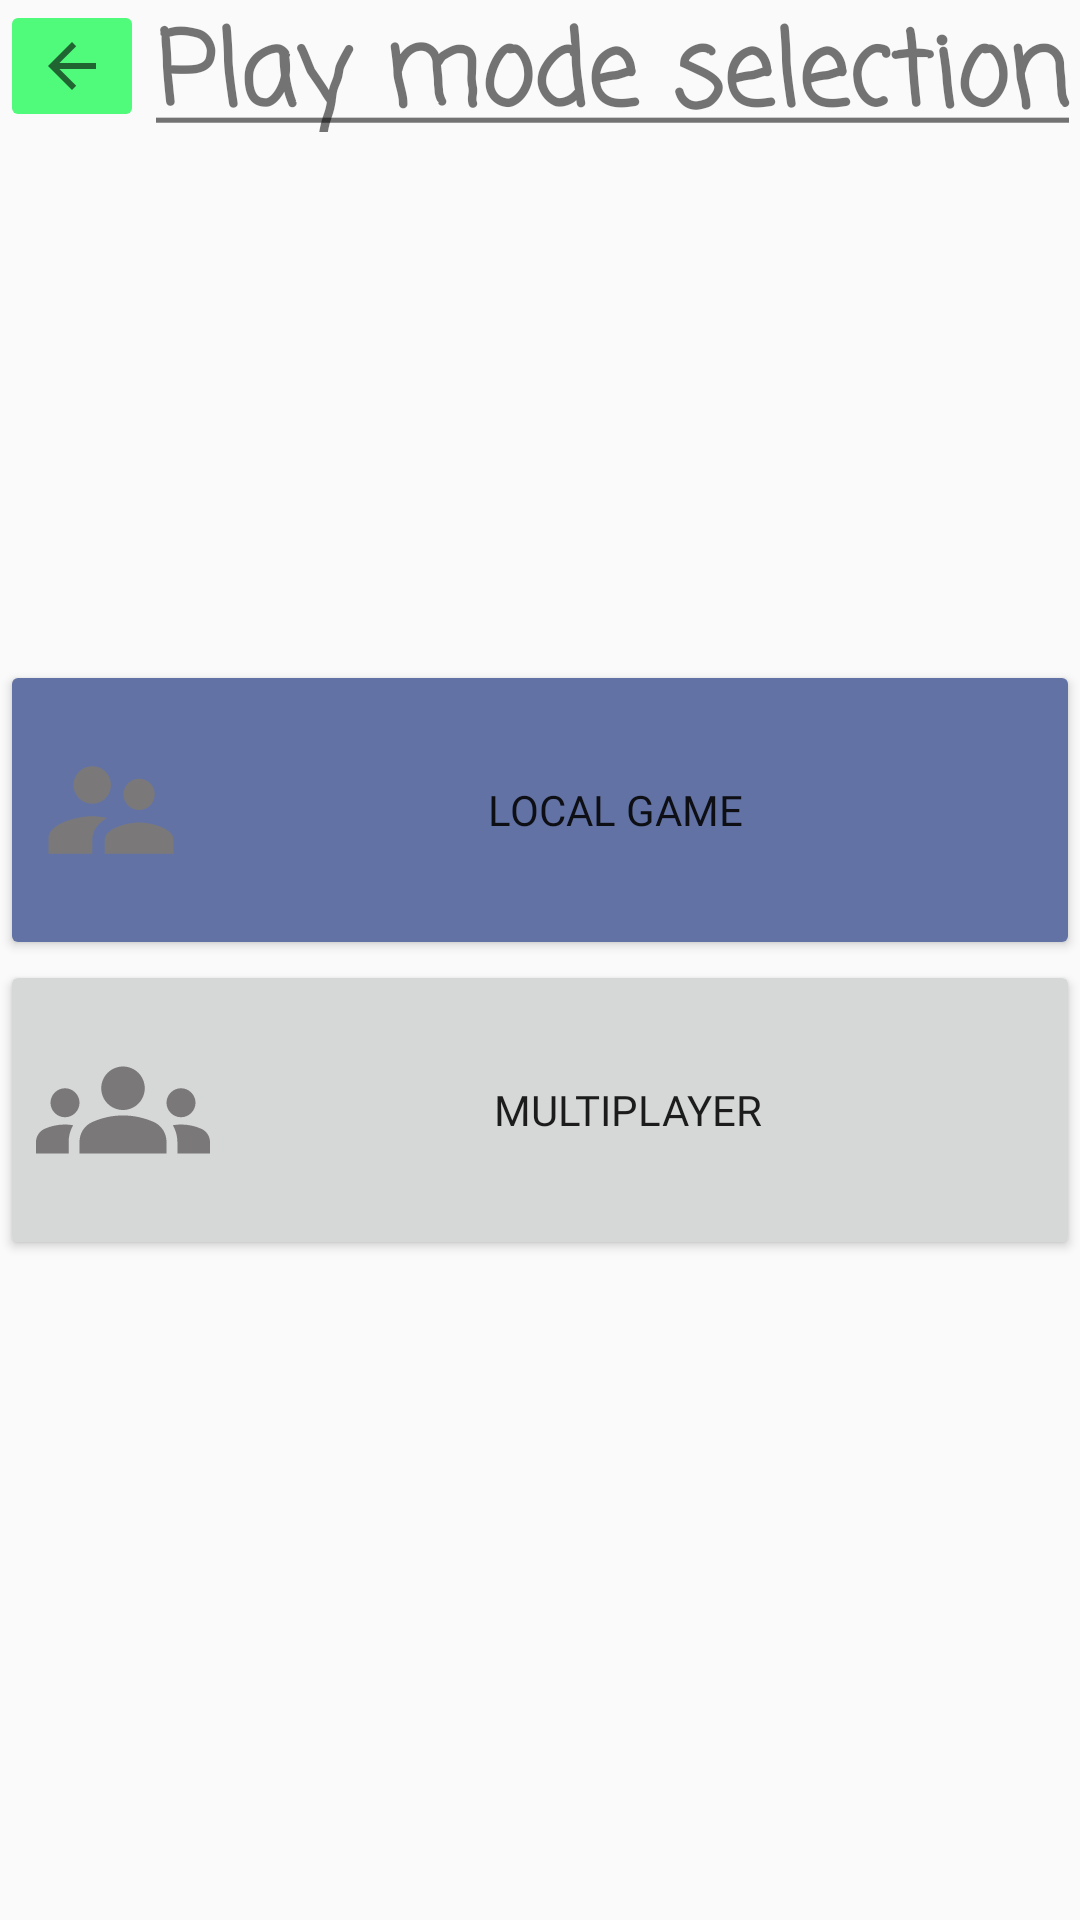

Named icons in this screenshot (1080w x 1920h) and their bounding boxes, {"left": x1, "top": y1, "right": x2, "bottom": y2}:
Back button: {"left": 12, "top": 18, "right": 132, "bottom": 114}
